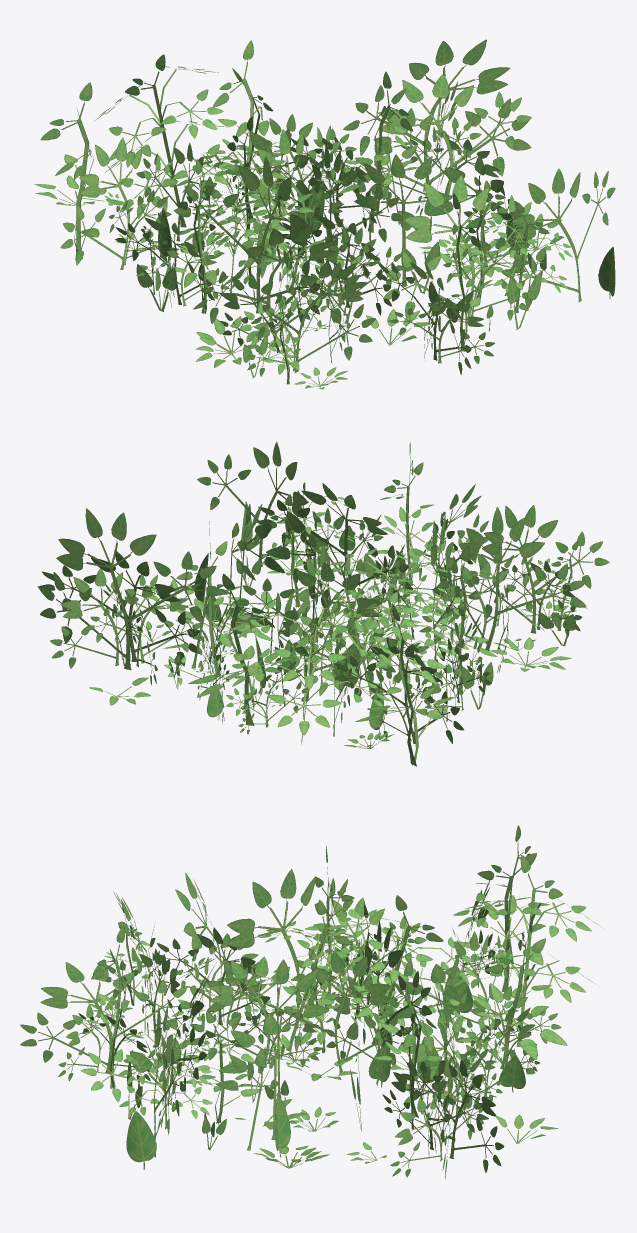
Rendered from LeafSetC_17.fbx.
3 views of the same model, one above another, from view 1: azimuth 30°, elevation 25°; view 2: azimuth 150°, elevation 25°; view 3: azimuth 270°, elevation 25° (orthographic). The views are drawn at different scales.
Parts seen in each view (by area): view 1: LeafSetC_17; view 2: LeafSetC_17; view 3: LeafSetC_17.
Boxes of the visible parts, x1=… form: LeafSetC_17: x1=34, y1=39, x2=615, y2=389; LeafSetC_17: x1=38, y1=441, x2=609, y2=766; LeafSetC_17: x1=20, y1=825, x2=600, y2=1179.
Bounding box in the file's own units: 2.77 × 1.1 × 2.88.
